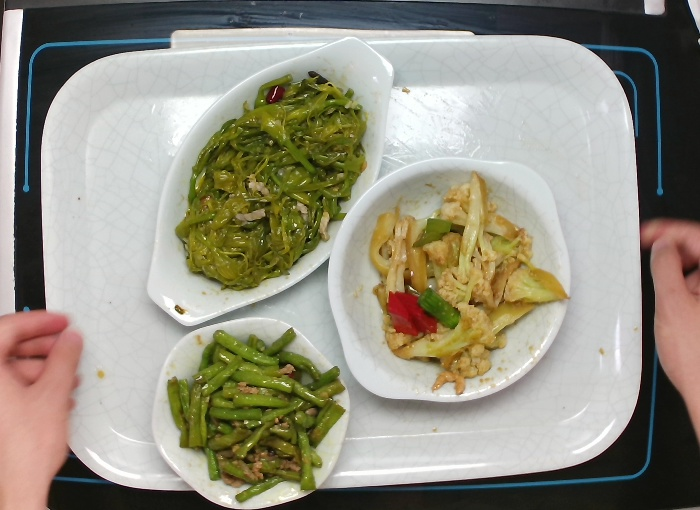JYsf-Shuang_Er_Wan: (324, 151, 576, 406)
JYsf-Yu_Pan: (137, 34, 399, 336)
WCQzf-Hua_Duo_Wan: (146, 309, 351, 507)
